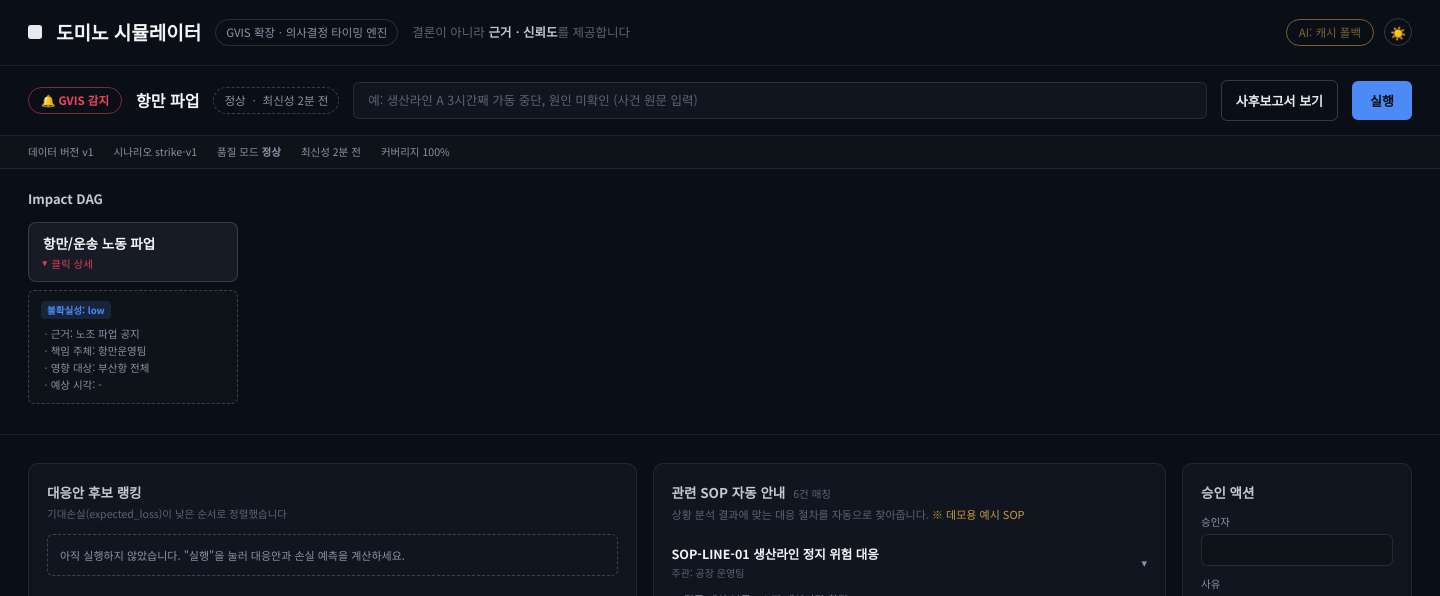
Test: IncidentDetailPage — 예외 케이스 › '실행' 이후 의사결정 근거 재조회가 실패하면 재시뮬레이션 실패 문구를 보여주고 버튼 라벨은 '실행'으로 유지한다
Check: the text "항만 파업" is shown, box [136,88,199,112]
Click the button "실행" at [1382, 100], box [1352,80,1412,120]
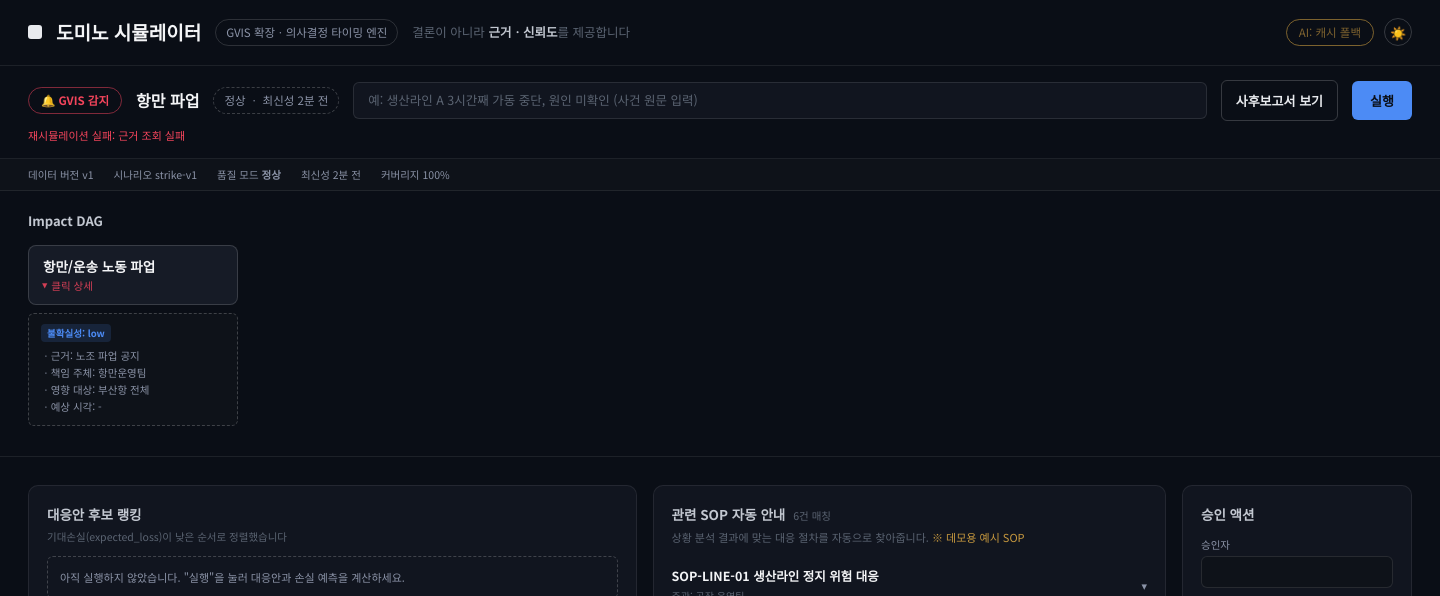
Check: the text "재시뮬레이션 실패: 근거 조회 실패" is shown, box [28,127,185,143]
